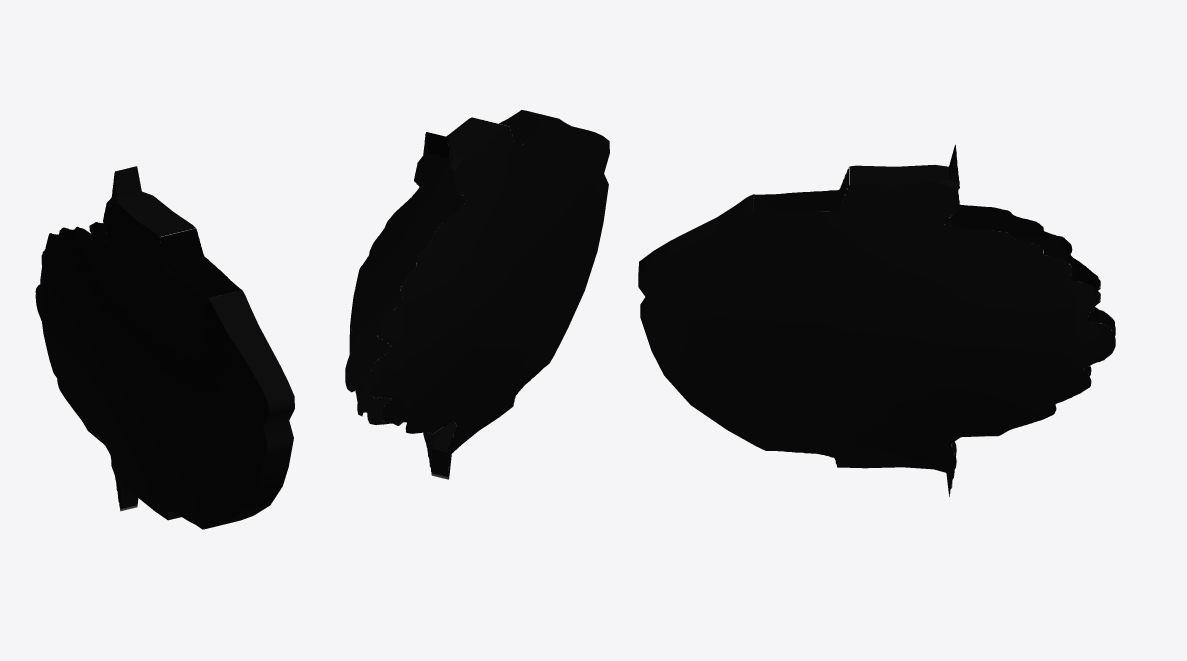
The model's file is 게임잼_개복치.fbx.
3 renders of one model, left to right at view 1: azimuth 30°, elevation 25°; view 2: azimuth 150°, elevation 25°; view 3: azimuth 270°, elevation 25°, orthographic. The views are drawn at different scales.
Parts seen in each view (by area): view 1: pCube1; view 2: pCube1; view 3: pCube1.
Part boxes in pixels (x1,y1,x2,y2): pCube1: (35,166,294,529); pCube1: (345,110,609,479); pCube1: (638,144,1115,496).
Size of the model in its own units: 1.3 by 11.39 by 8.76.
